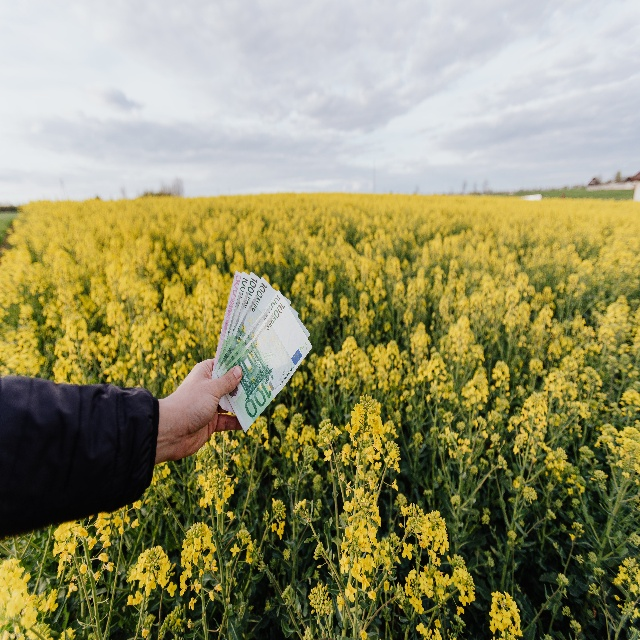Sin_guantes: (168, 356, 243, 466)
